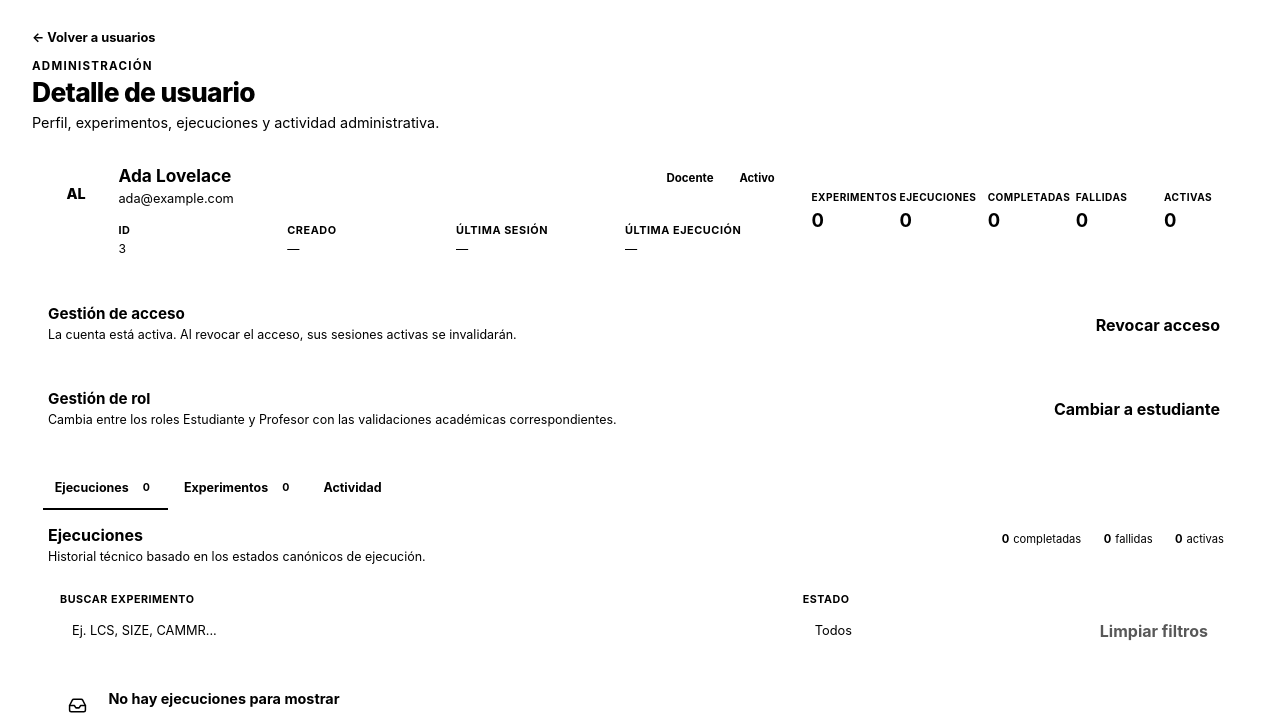
Scenario: AdminUserDetail Iteration 3 role lifecycle › keeps a guarded Teacher demotion open and renders assigned courses inline
What coordinates should you click on to do the following:
click the button "Cambiar a estudiante"
I would click on:
 (1137, 410)
Its box is [1042, 392, 1232, 428].
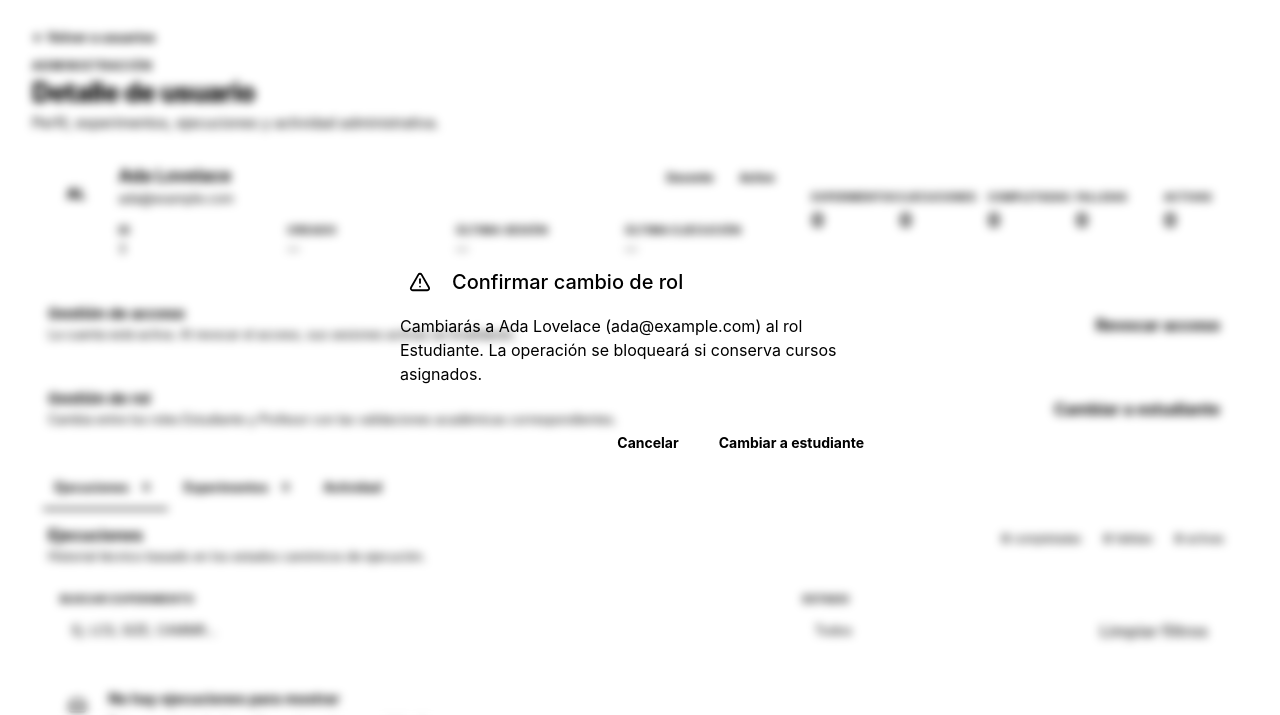
What coordinates should you click on to do the following:
click the button "Cambiar a estudiante"
I would click on:
 (791, 442)
Its box is [703, 422, 880, 462].
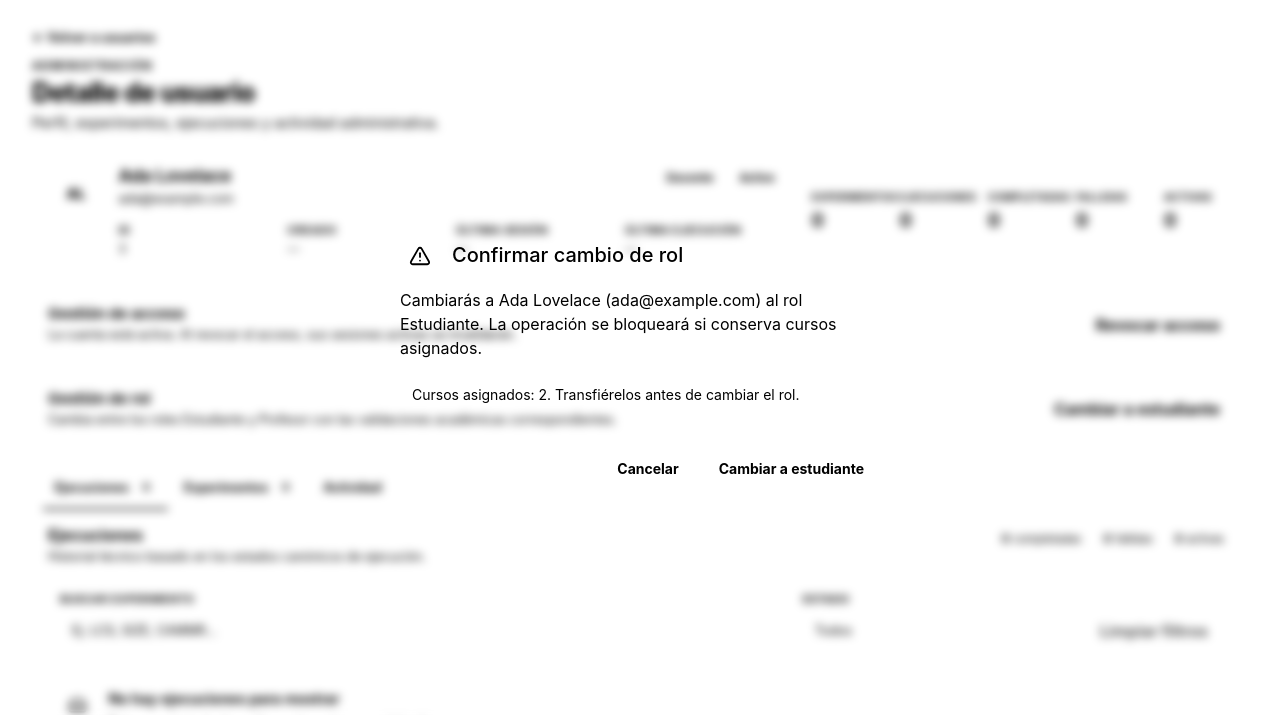
Expected: the text "Docente" is shown, [666, 171, 714, 185]
Expected: the message reads "Cursos asignados: 2. Transfiérelos antes de cambiar el rol.", [412, 386, 800, 402]
